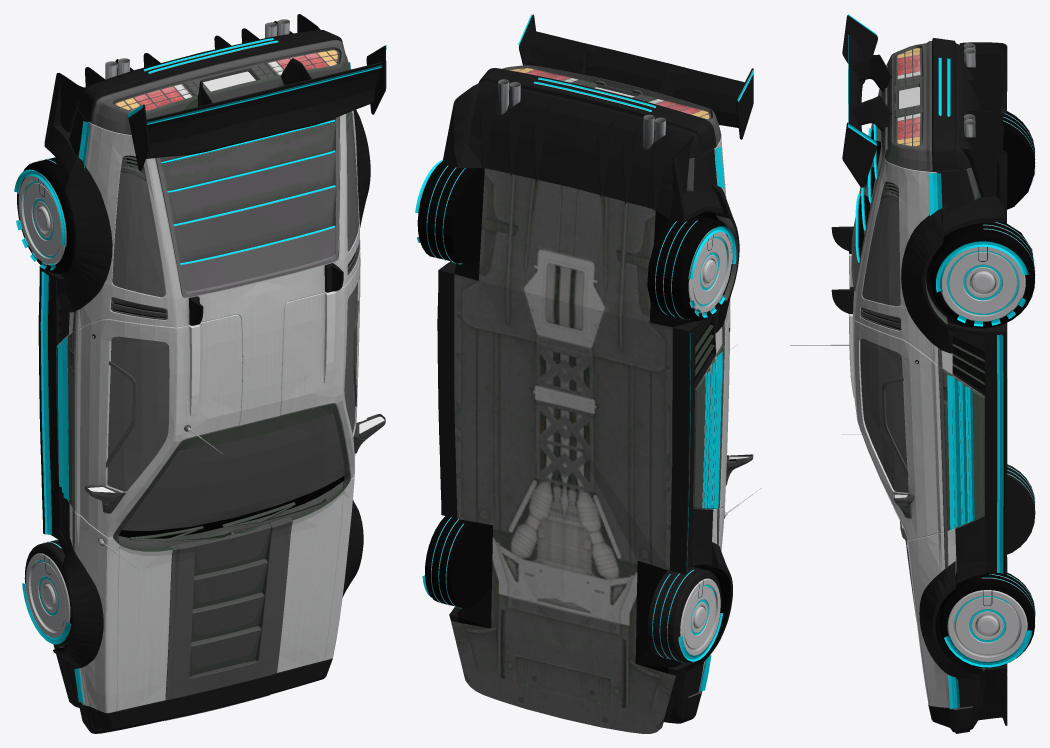
The model's file is DMC De Lorean Neon Edition.fbx.
3 renders of one model, left to right at view 1: azimuth 30°, elevation 25°; view 2: azimuth 150°, elevation 25°; view 3: azimuth 270°, elevation 25°, orthographic. The views are drawn at different scales.
Visible parts, largest first — view 1: tyres-material.002, glass-material, Material_002-material.004, Material_001-material.890, Material_001-material.226, Material_001-material.176, Material_001-material.397, Material_001-material.238, Material_001-material.579, Material_001-material.887, Material_001-material.200, Material_001-material.159 (+31 smaller); view 2: Material_004-material, tyres-material.002, Material_002-material.004, Material_003-material, Material_003-material.002, Material_003-material.001, tyres-material.006, tyres-material, carpaint-material.196, Material_002-material.001, Material_002-material.003, DMC De Lorean Neon Edition (+8 smaller); view 3: tyres-material.002, glass-material, Material_001-material.578, Material_002-material, Material_002-material.002, Material_001-material.231, carpaint-material.195, Material_001-material.332, Material_002-material.004, Material_003-material, tyres-material.006, Material_001-material.046 (+19 smaller).
Boxes of the visible parts, left/top/right/bottom form: tyres-material.002: left=38, top=14, right=386, bottom=707; glass-material: left=107, top=116, right=358, bottom=530; Material_002-material.004: left=53, top=19, right=357, bottom=720; Material_001-material.890: left=108, top=315, right=241, bottom=523; Material_001-material.226: left=117, top=546, right=172, bottom=711; Material_001-material.176: left=188, top=262, right=333, bottom=425; Material_001-material.397: left=277, top=492, right=342, bottom=672; Material_001-material.238: left=166, top=521, right=292, bottom=699; Material_001-material.579: left=281, top=266, right=358, bottom=466; Material_001-material.887: left=75, top=319, right=124, bottom=537; Material_001-material.200: left=70, top=504, right=119, bottom=712; Material_001-material.159: left=124, top=113, right=358, bottom=327; Material_004-material: left=451, top=168, right=675, bottom=733; tyres-material.002: left=437, top=14, right=753, bottom=727; Material_002-material.004: left=454, top=79, right=737, bottom=673; Material_003-material: left=417, top=161, right=484, bottom=264; Material_003-material.002: left=425, top=510, right=492, bottom=608; Material_003-material.001: left=647, top=215, right=732, bottom=321; tyres-material.006: left=478, top=68, right=716, bottom=154; tyres-material: left=647, top=566, right=721, bottom=662; carpaint-material.196: left=702, top=351, right=722, bottom=508; Material_002-material.001: left=688, top=232, right=731, bottom=313; Material_002-material.003: left=680, top=578, right=720, bottom=655; DMC De Lorean Neon Edition: left=418, top=70, right=752, bottom=691; tyres-material.002: left=831, top=15, right=1007, bottom=725; glass-material: left=860, top=127, right=908, bottom=492; Material_001-material.578: left=889, top=336, right=943, bottom=539; Material_002-material: left=941, top=246, right=1025, bottom=321; Material_002-material.002: left=947, top=590, right=1027, bottom=661; Material_001-material.231: left=886, top=162, right=984, bottom=396; carpaint-material.195: left=947, top=375, right=974, bottom=530; Material_001-material.332: left=907, top=529, right=956, bottom=707; Material_002-material.004: left=851, top=43, right=1007, bottom=672; Material_003-material: left=931, top=222, right=1034, bottom=327; tyres-material.006: left=932, top=38, right=958, bottom=171; Material_001-material.046: left=884, top=41, right=932, bottom=171.
Bounding box in the file's own units: 241 × 520 × 186.
7 materials, 3 textured.
